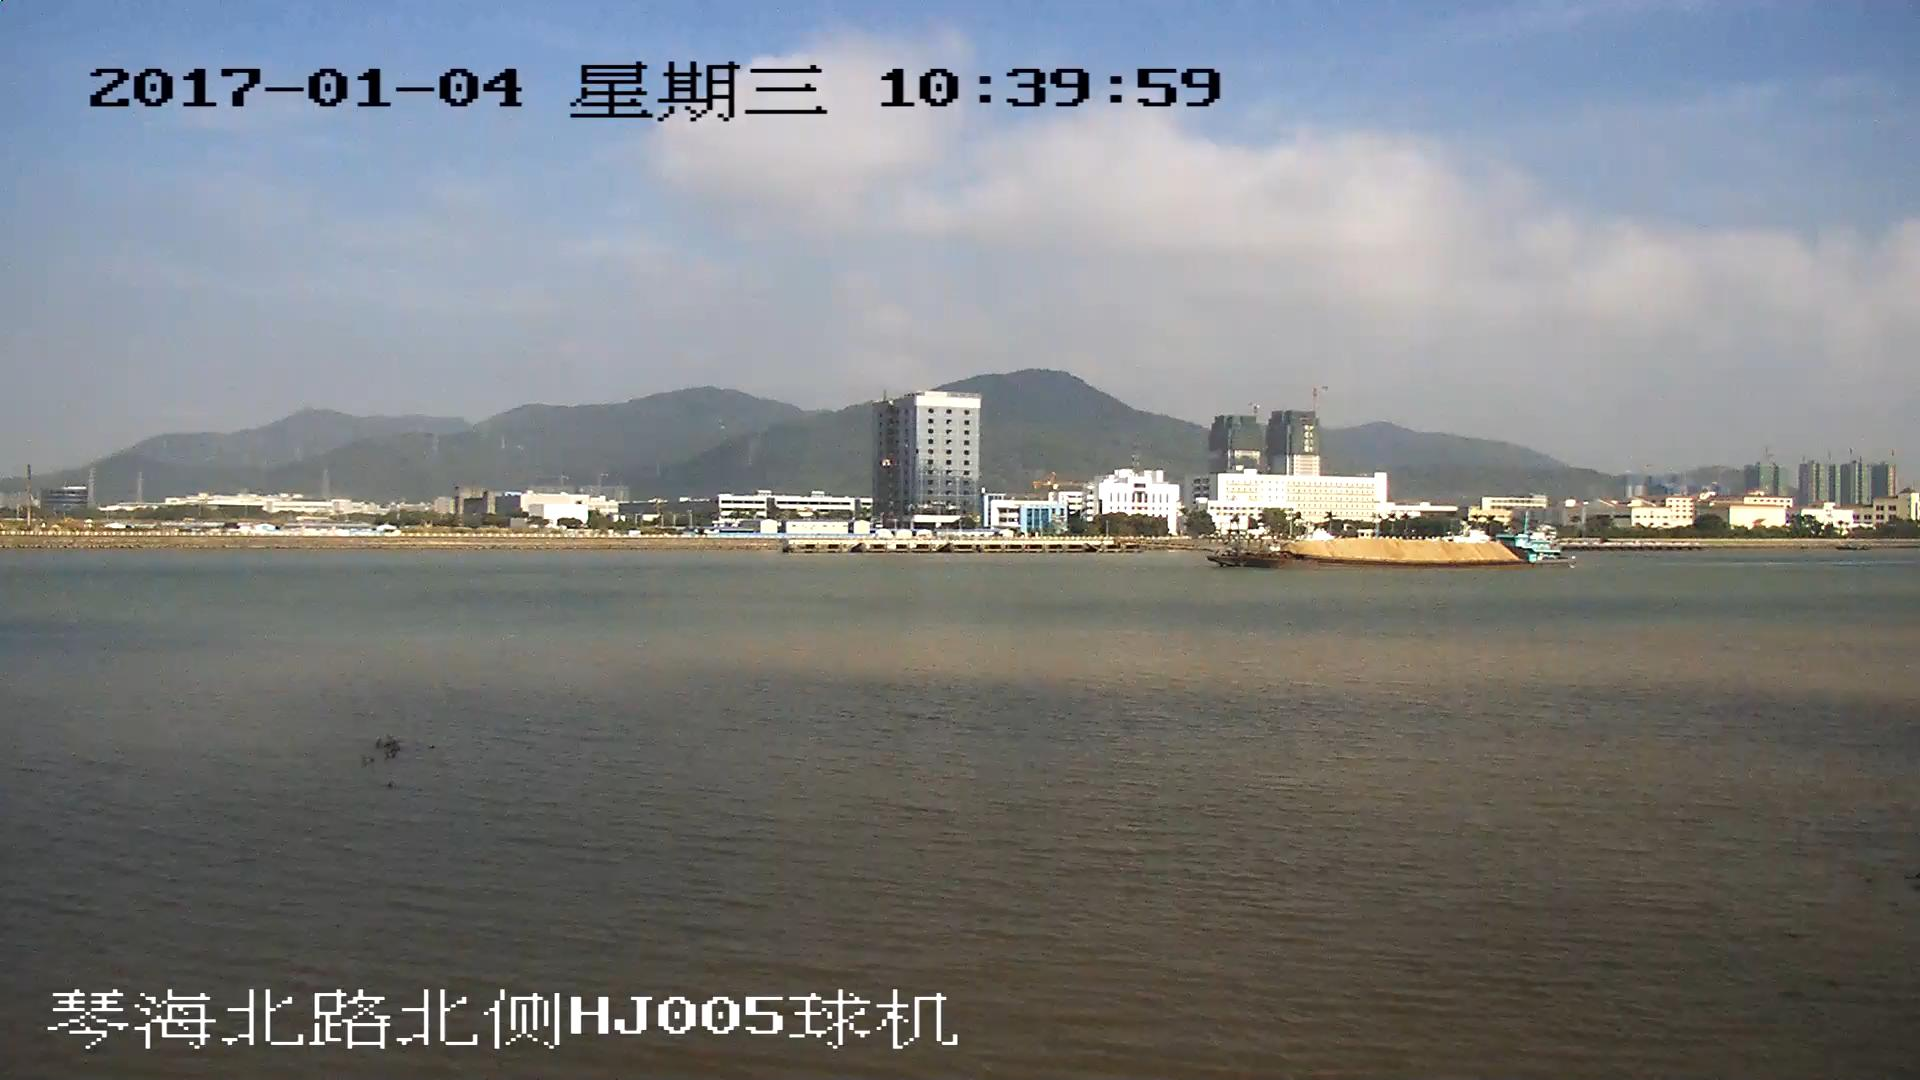ore carrier: (1215, 528, 1566, 571)
